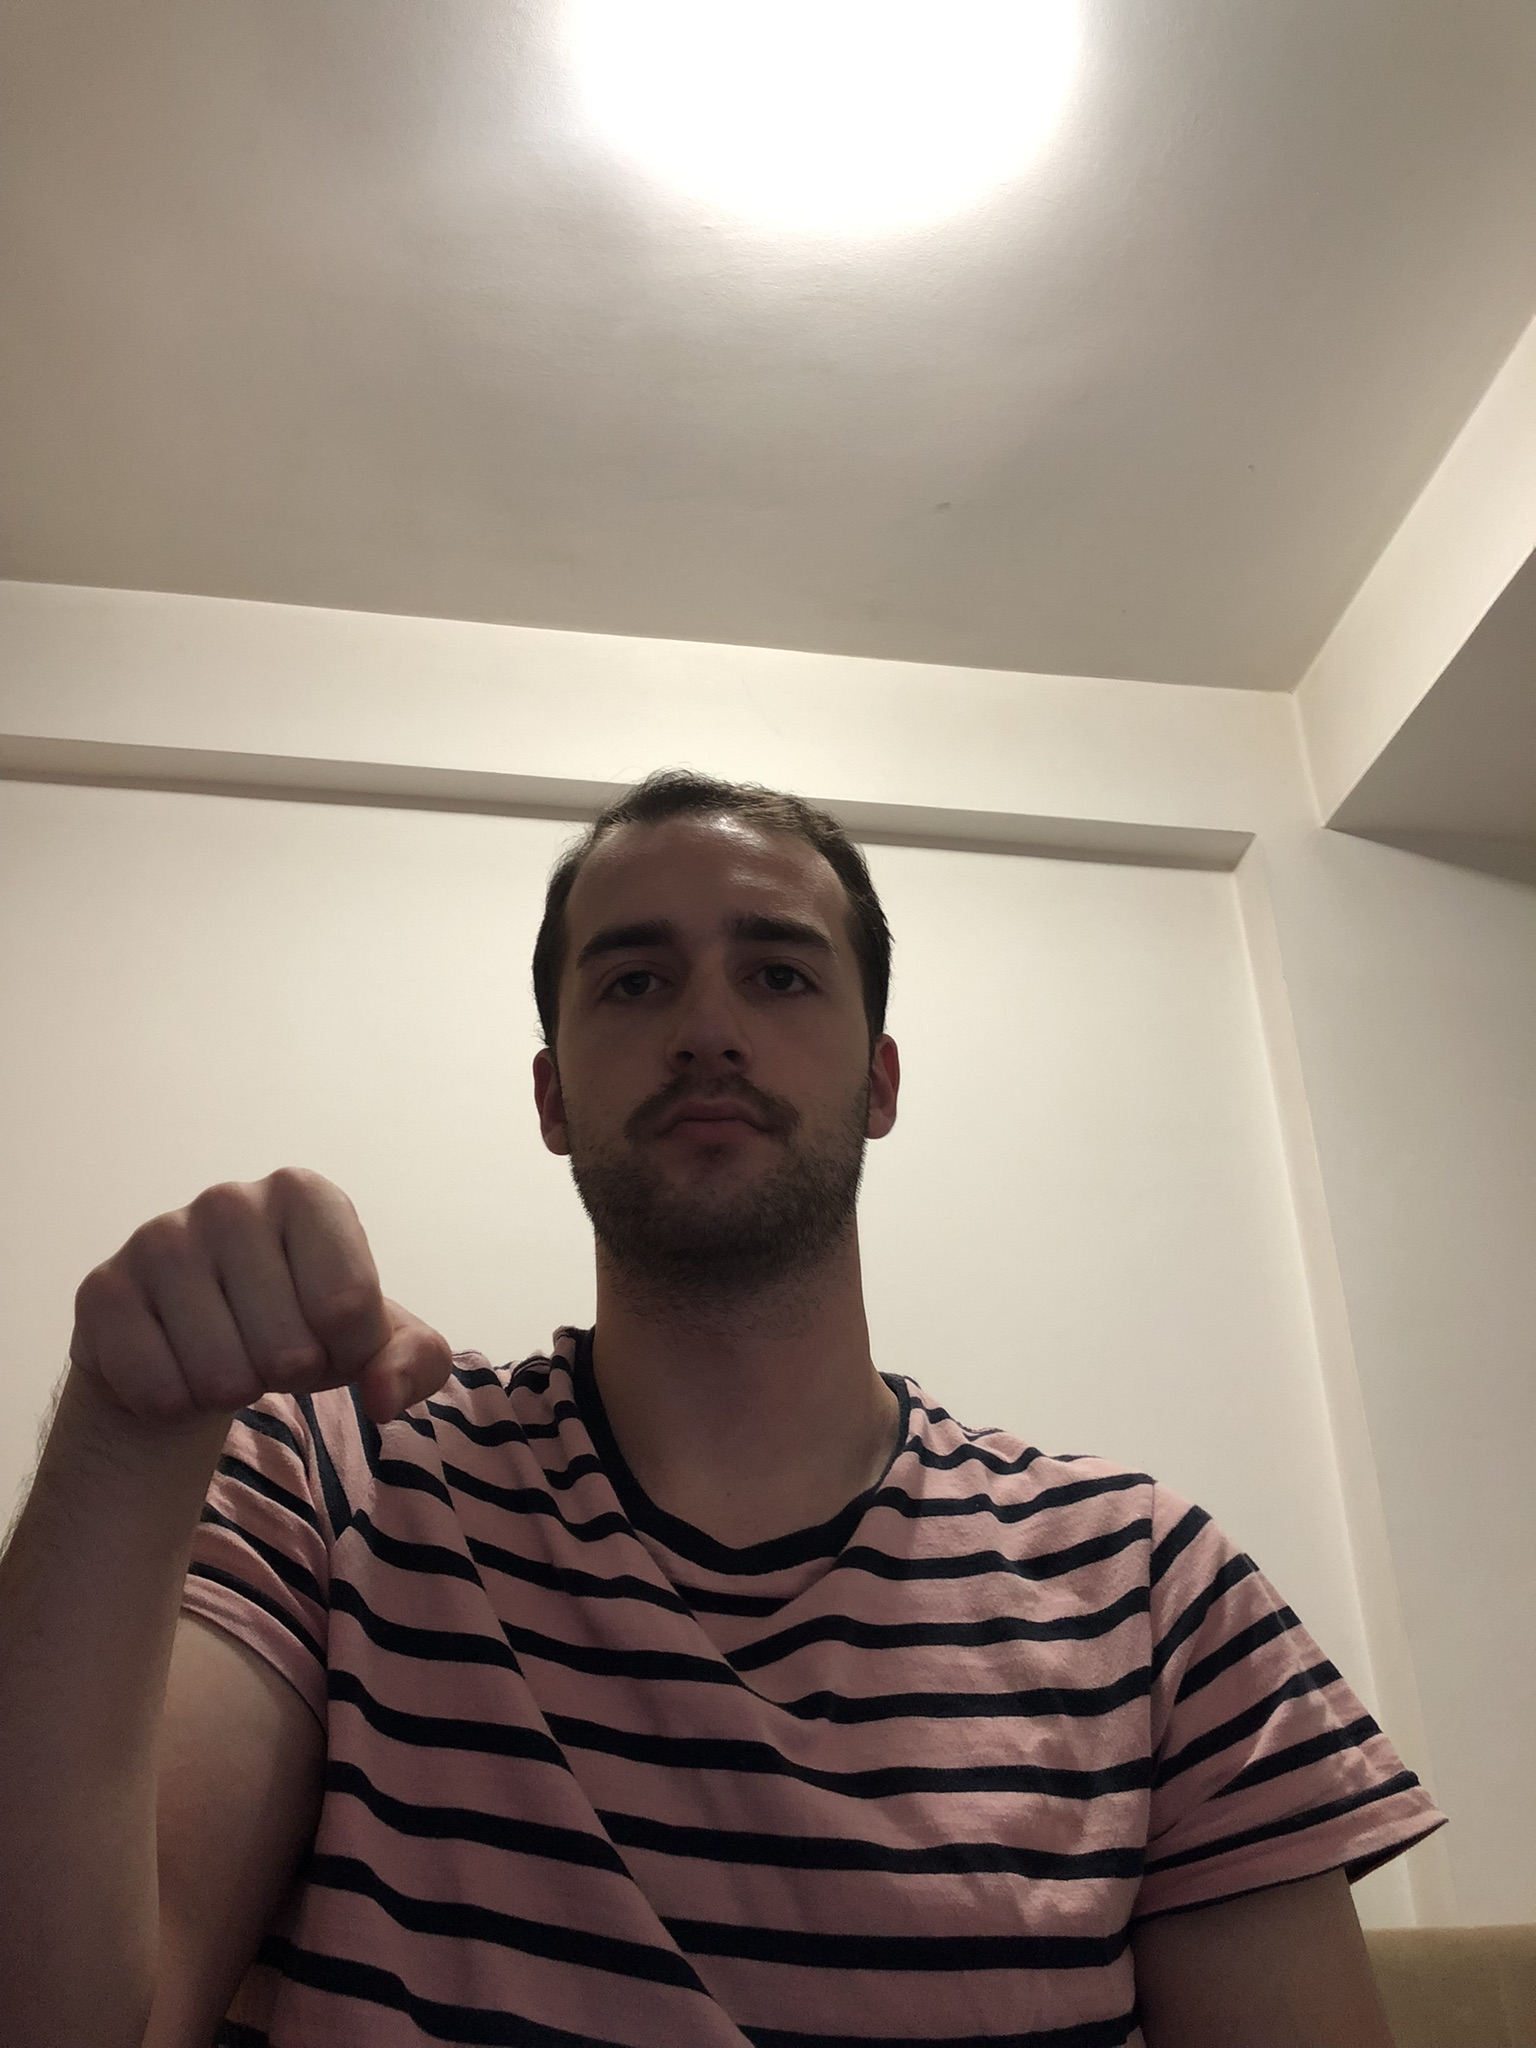Yes: (65, 1164, 465, 1463)
